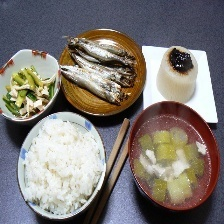rice: (22, 117, 103, 217)
